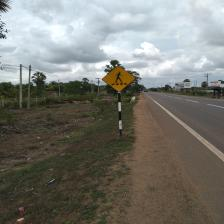yellowboard: (101, 65, 136, 92)
